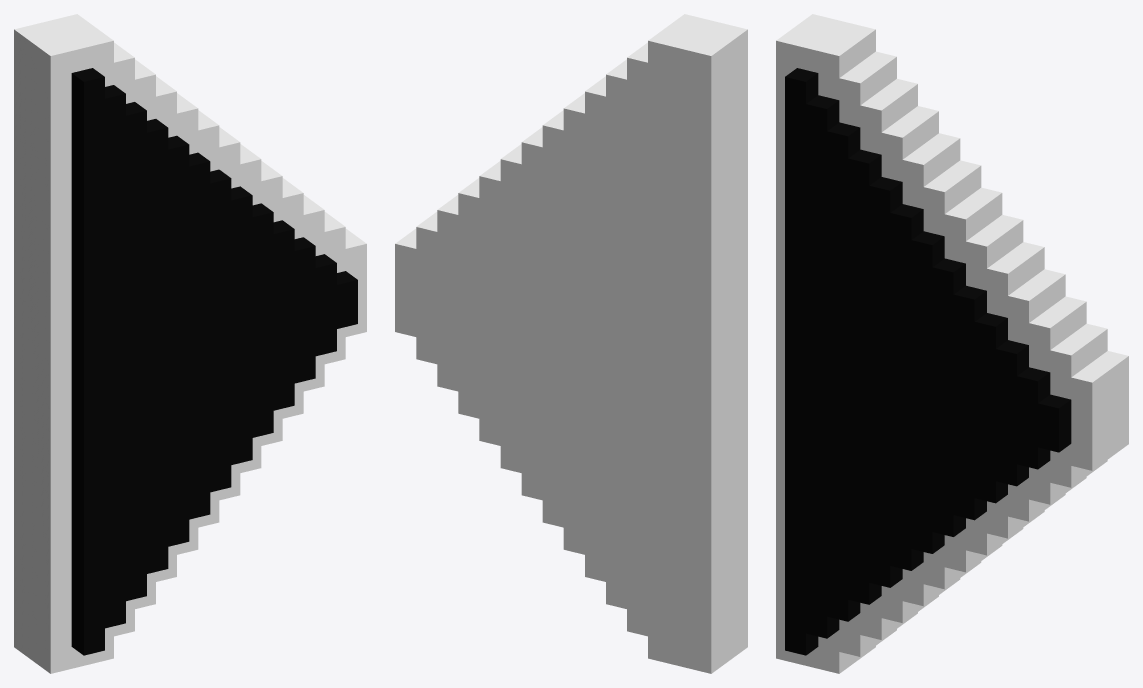
The model's file is Arrow.dae.
3 renders of one model, left to right at view 1: azimuth 30°, elevation 25°; view 2: azimuth 150°, elevation 25°; view 3: azimuth 330°, elevation 25°, orthographic.
Visible parts, largest first — view 1: Matrix; view 2: Matrix; view 3: Matrix.
Boxes of the visible parts, x1=… form: Matrix: x1=14, y1=14, x2=366, y2=673; Matrix: x1=395, y1=14, x2=747, y2=673; Matrix: x1=776, y1=14, x2=1128, y2=673.
Size of the model in its own units: 15 by 28 by 4.
1 material, 1 textured.
